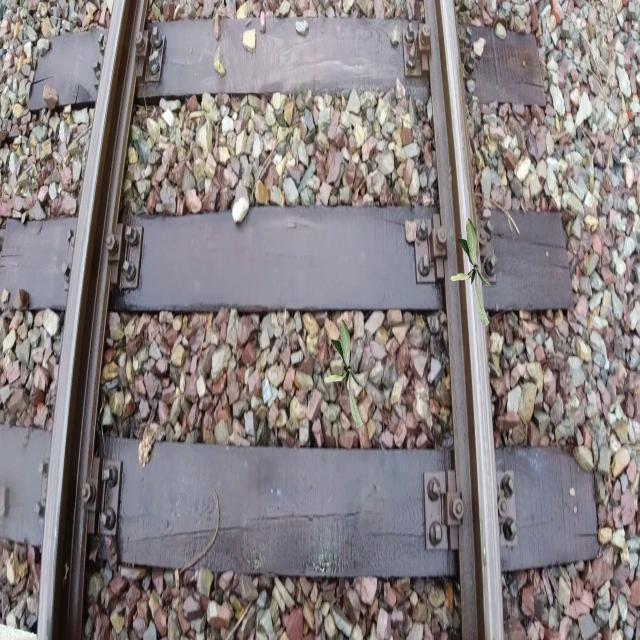Plant: (451, 218, 491, 328), (324, 319, 364, 429)
